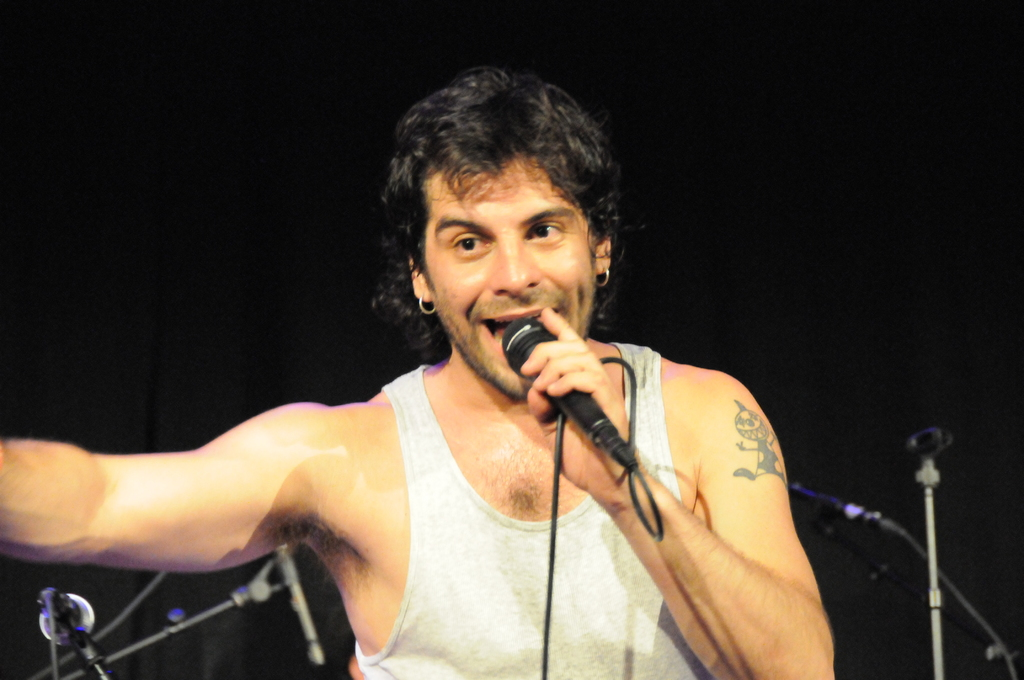Human_hand: (527, 304, 634, 498)
